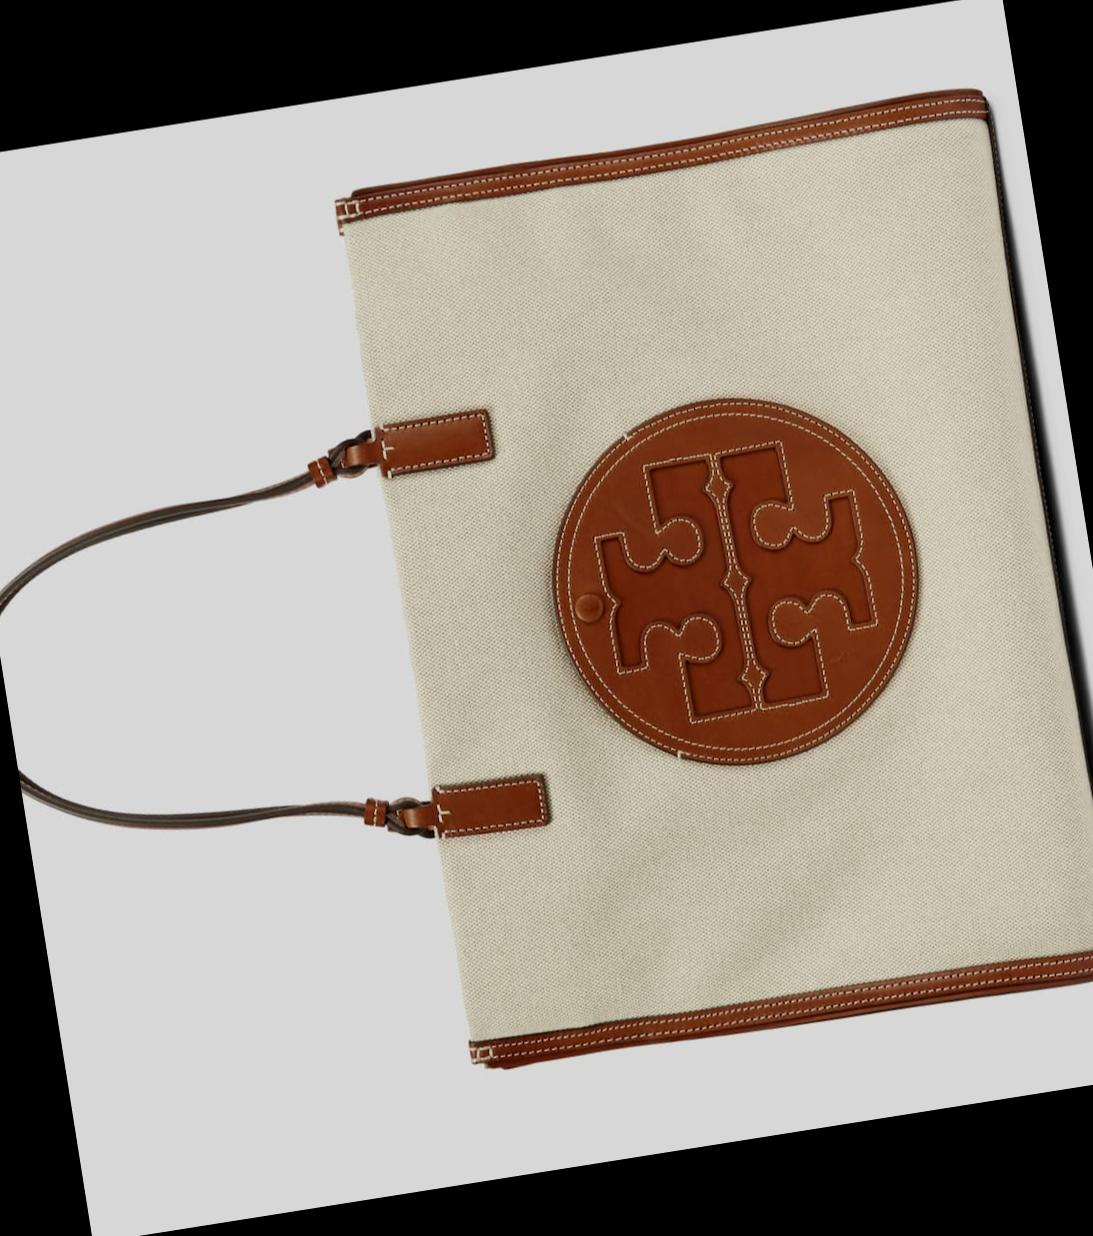TORY-BURCH: (524, 369, 944, 792)
